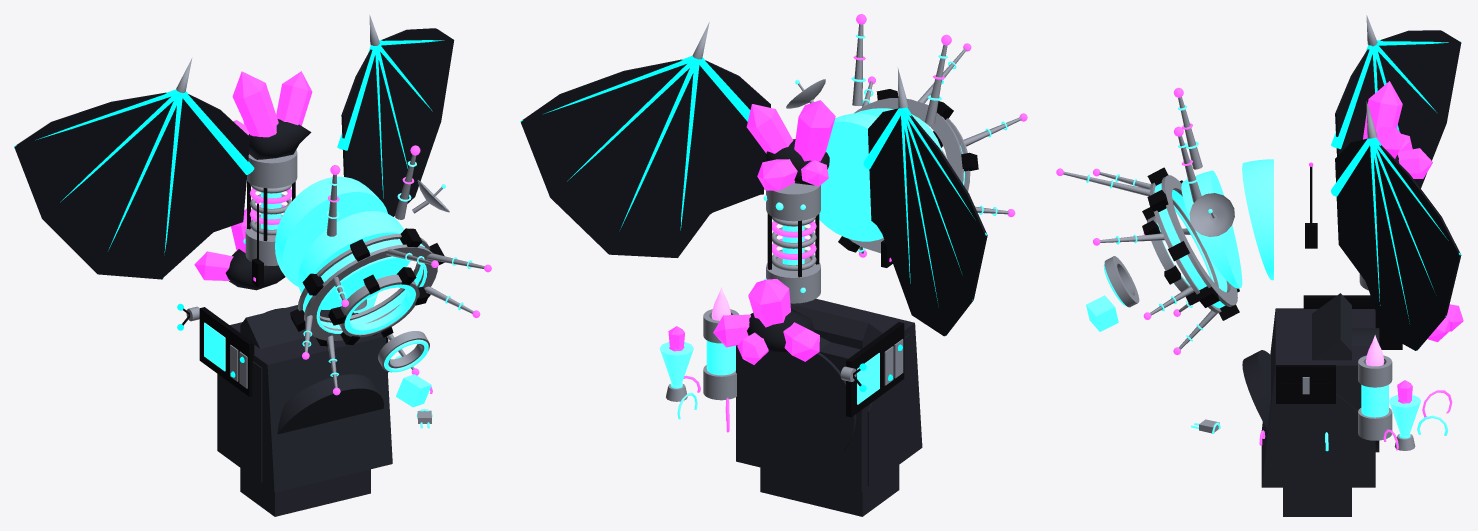
File: CyberNeonMine_Roblox.fbx
3 renders of one model, left to right at view 1: azimuth 30°, elevation 25°; view 2: azimuth 150°, elevation 25°; view 3: azimuth 270°, elevation 25°, orthographic. The views are drawn at different scales.
Parts seen in each view (by area): view 1: WingPanel, CarbonShell, Neon, Chrome, Black, WingStrut, Crystal, Antenna.001, ServerBlock, Magenta, Ore, Screen; view 2: WingPanel, CarbonShell, Crystal, Chrome, Neon, WingStrut, Black, Antenna.001, ServerBlock, Magenta, Hologram, Screen; view 3: WingPanel, CarbonShell, Neon, Chrome, Black, Crystal, WingStrut, Antenna.001, Magenta, Ore, Hologram.
Boxes of the visible parts, box(x1,y1,x2,y2) form: WingPanel: box(14, 28, 454, 279); CarbonShell: box(217, 305, 392, 516); Neon: box(243, 161, 472, 428); Chrome: box(186, 150, 449, 423); Black: box(182, 181, 444, 396); WingStrut: box(14, 39, 453, 278); Crystal: box(194, 71, 312, 280); Antenna.001: box(176, 15, 484, 387); ServerBlock: box(225, 119, 311, 290); Magenta: box(249, 145, 491, 395); Ore: box(396, 374, 431, 407); Screen: box(204, 322, 225, 371); WingPanel: box(521, 59, 987, 336); CarbonShell: box(736, 298, 922, 516); Crystal: box(668, 100, 835, 364); Chrome: box(666, 79, 970, 401); Neon: box(670, 34, 1007, 419); WingStrut: box(520, 55, 986, 336); Black: box(767, 89, 978, 417); Antenna.001: box(692, 22, 1021, 253); ServerBlock: box(747, 139, 829, 352); Magenta: box(683, 14, 1027, 432); Hologram: box(659, 342, 693, 385); Screen: box(857, 353, 879, 404); WingPanel: box(1335, 30, 1461, 350); CarbonShell: box(1242, 293, 1379, 516); Neon: box(1086, 105, 1448, 451); Chrome: box(1104, 175, 1415, 450); Black: box(1142, 167, 1402, 403); Crystal: box(1363, 81, 1463, 403); WingStrut: box(1331, 40, 1460, 350); Antenna.001: box(1063, 15, 1377, 349); Magenta: box(1056, 87, 1452, 450); Ore: box(1086, 295, 1118, 331); Hologram: box(1389, 395, 1420, 435).
Bounding box in the file's own units: 2195 × 2093 × 1771.
